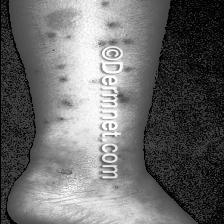Toxin: (41, 99, 76, 129), (31, 63, 69, 82), (39, 31, 77, 43), (91, 36, 136, 46), (54, 166, 72, 178), (116, 92, 128, 104), (103, 22, 119, 30), (122, 66, 132, 74), (98, 2, 108, 8)
